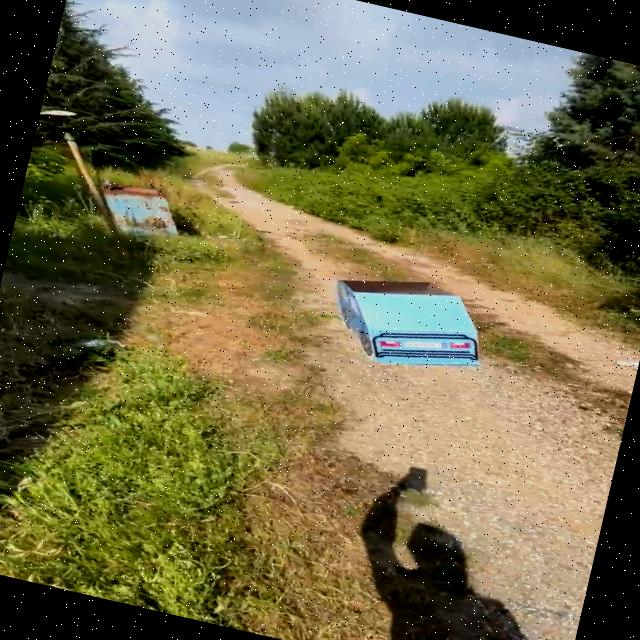blue_car: (303, 250, 516, 398)
